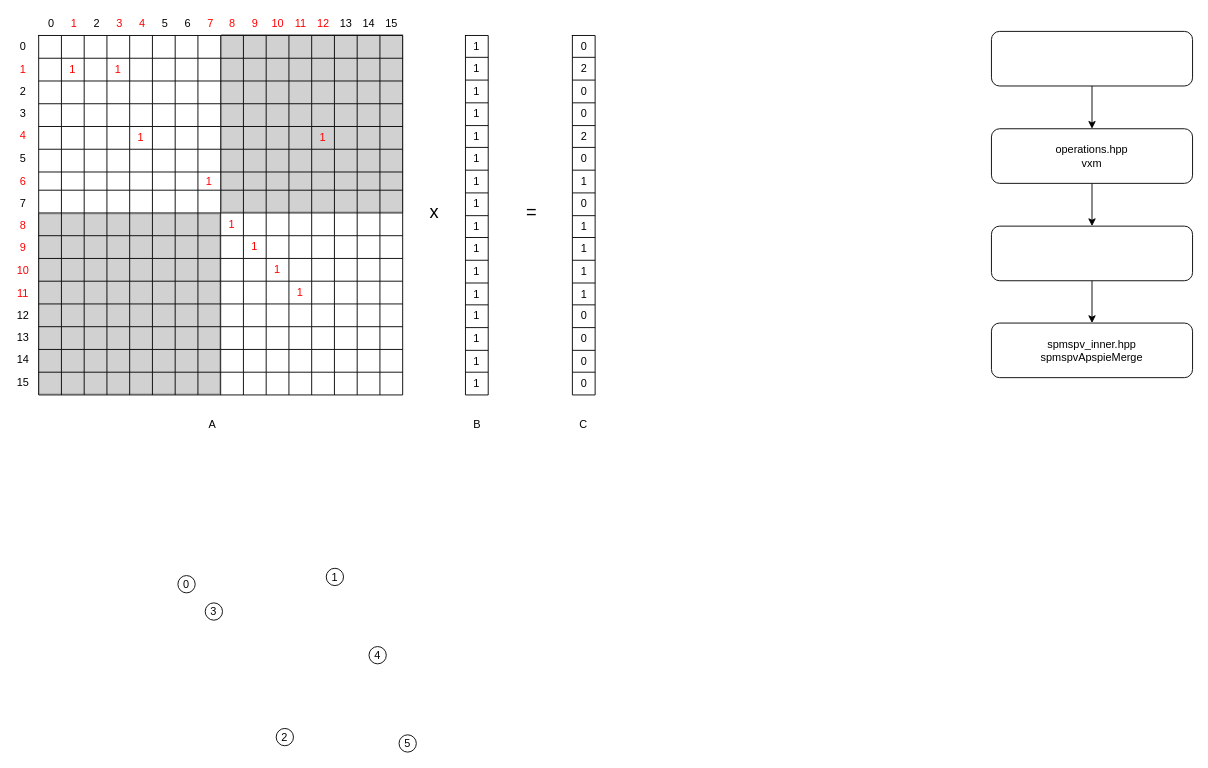
The diagram is 1208 pixels wide and 768 high, and some of its shapes have lost their labels. The shapes that lost their labels are listed below. From the top down, each one's box as (x1, y1, x2, y2) in pixels, then its label:
(991, 30, 1193, 86): gspmspv.cu graphblas::vxm
(991, 225, 1193, 281): spmspv.hpp spmspvMerge（Merge-path 负载均衡）
